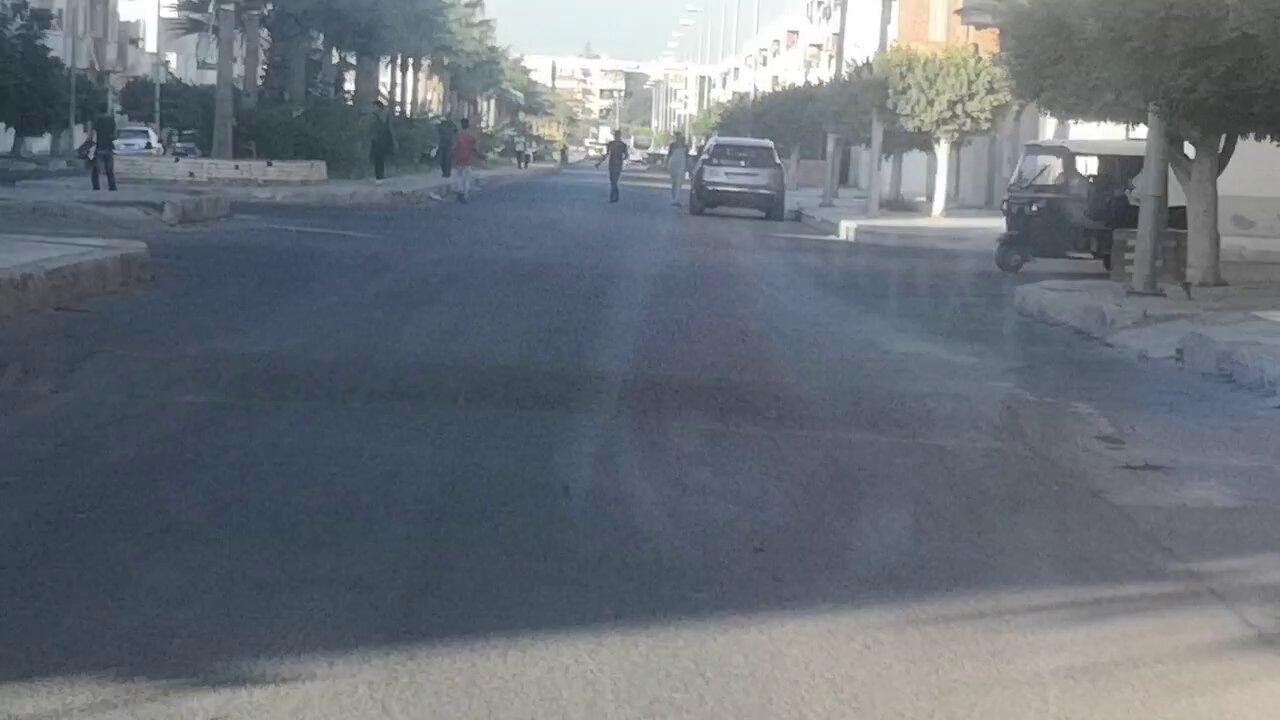Bump: (0, 326, 1279, 473)
